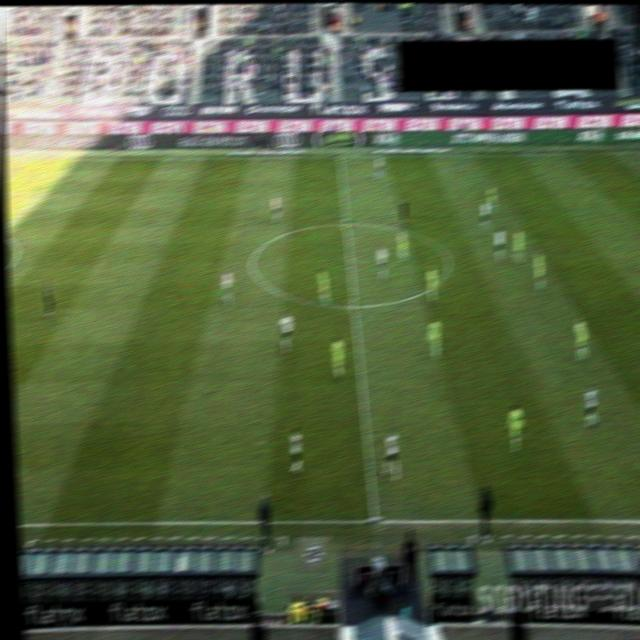bigarea_top_inner: (32, 186, 46, 197)
halfcircle_bottom: (346, 299, 360, 311)
halfcircle_top: (338, 217, 353, 228)
midline_bottom_intersection: (365, 514, 382, 526)
midline_top_intersection: (332, 150, 347, 161)
